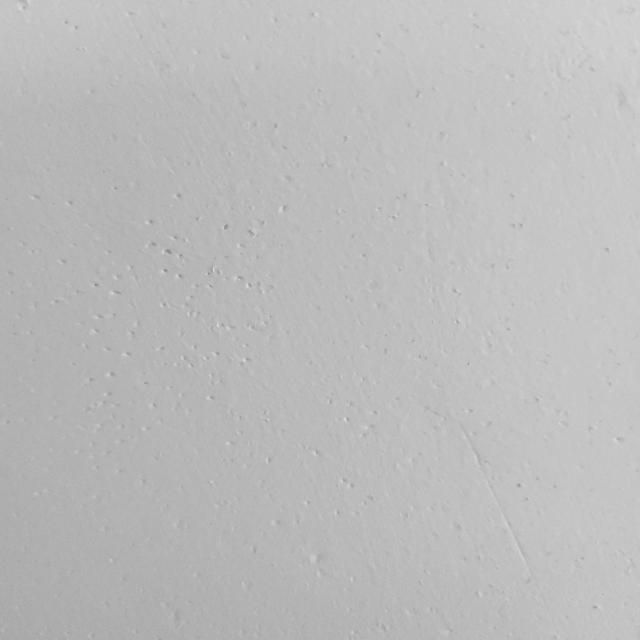rough and patchy surface: (26, 26, 487, 515)
